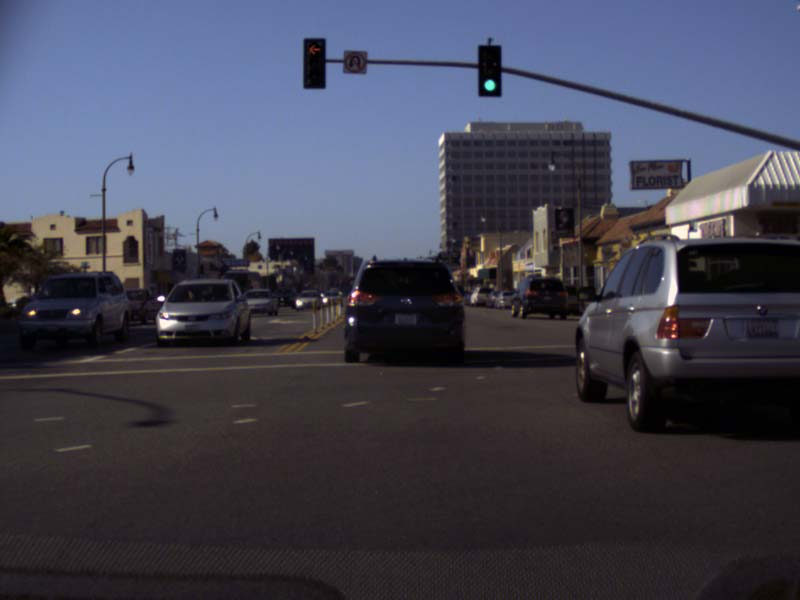Green: (479, 47, 498, 95)
Red: (303, 37, 323, 86)
